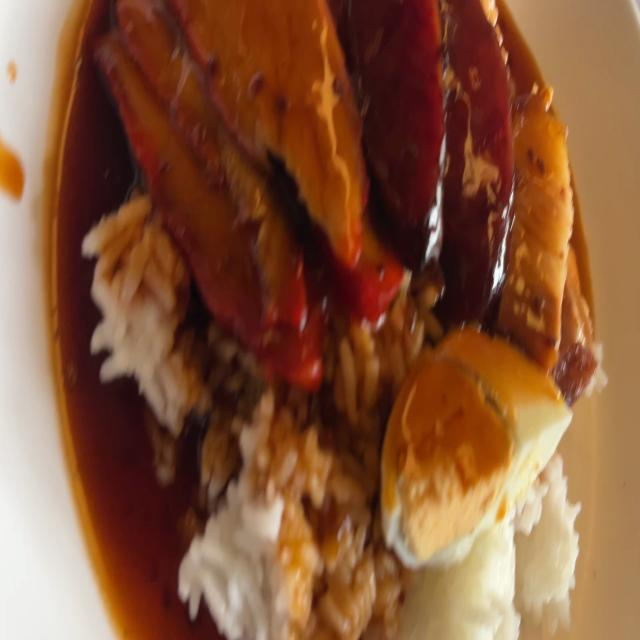01boiled_egg: (388, 333, 570, 557)
01chainese_sausage: (355, 0, 509, 311), (365, 0, 450, 253), (443, 0, 508, 315)
01crispy_pork: (503, 73, 588, 380), (560, 264, 596, 398)
01red_pork: (95, 0, 386, 375), (147, 0, 307, 321), (107, 0, 259, 337), (220, 0, 376, 252)
01red_pork_and_crispy_pork: (80, 0, 602, 640)
01rice: (149, 362, 370, 640), (416, 483, 585, 640), (86, 200, 192, 424)
